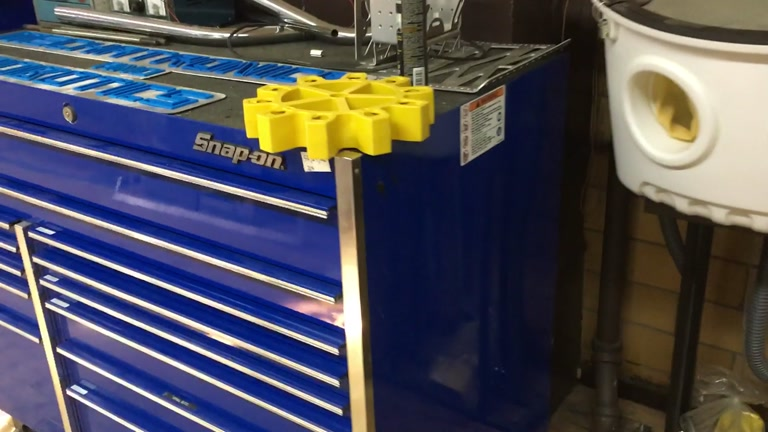gear: (241, 74, 438, 157)
